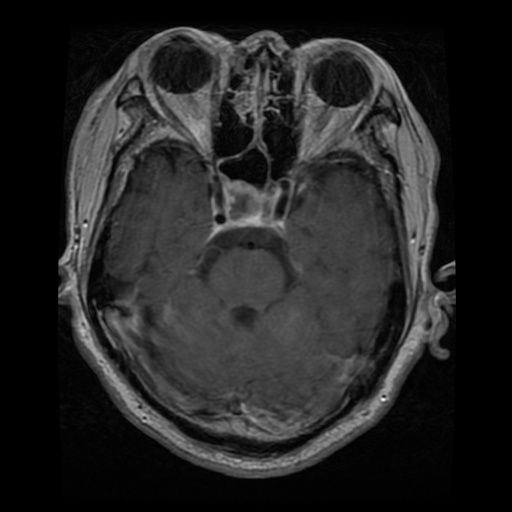pituitary: (221, 181, 271, 224)
